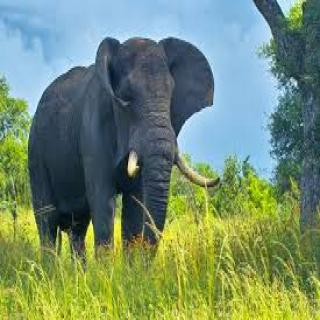Elephant: (17, 30, 230, 262)
